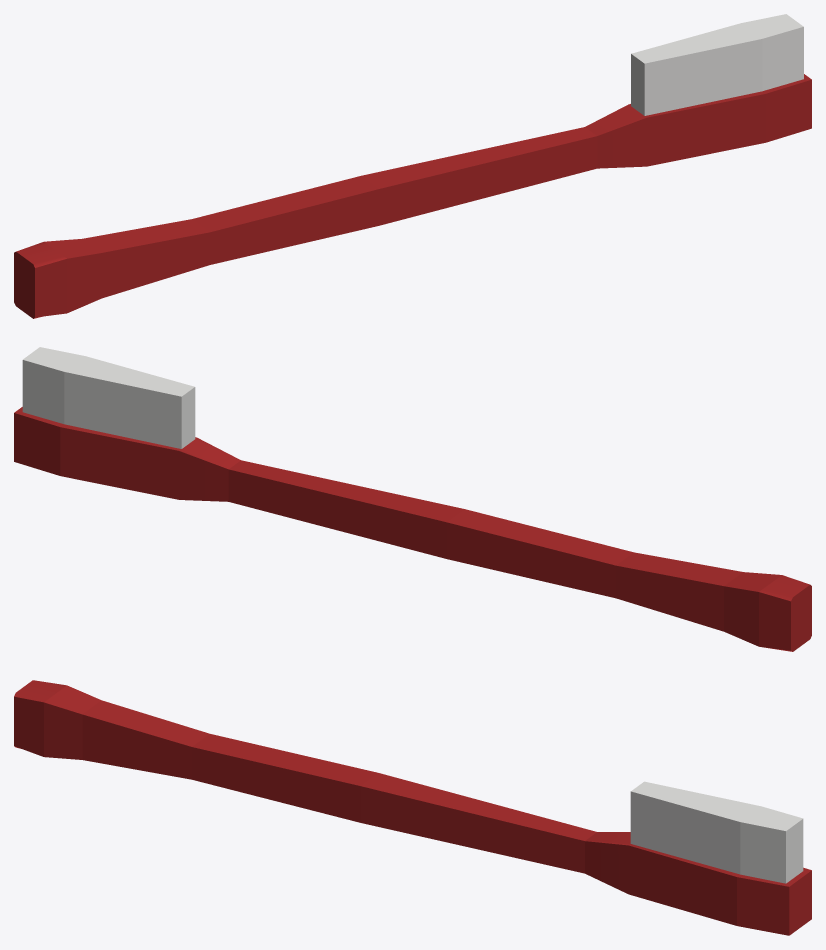
File: Toothbrush.fbx
The picture shows the model from 3 angles, top to bottom: view 1: azimuth 30°, elevation 25°; view 2: azimuth 150°, elevation 25°; view 3: azimuth 330°, elevation 25°; orthographic projection.
Parts seen in each view (by area): view 1: pCube1; view 2: pCube1; view 3: pCube1.
Boxes of the visible parts, box(x1,y1,x2,y2) form: pCube1: box(14, 14, 811, 318); pCube1: box(14, 347, 811, 651); pCube1: box(14, 680, 811, 935).
Size of the model in its own units: 0.0578 by 0.00742 by 0.00371.
